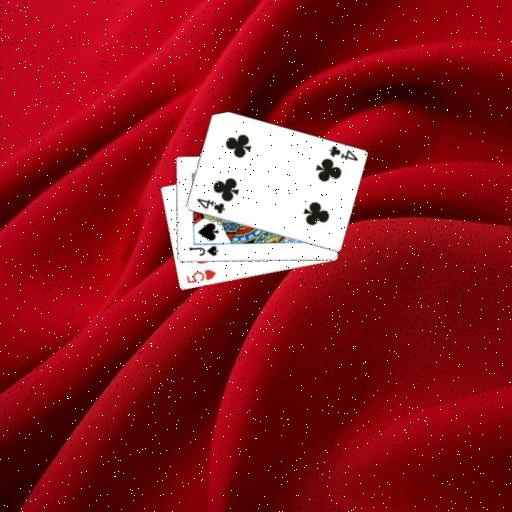4C: (326, 143, 360, 163), (194, 196, 226, 216)
5H: (183, 267, 217, 285)
JS: (186, 244, 220, 258)
